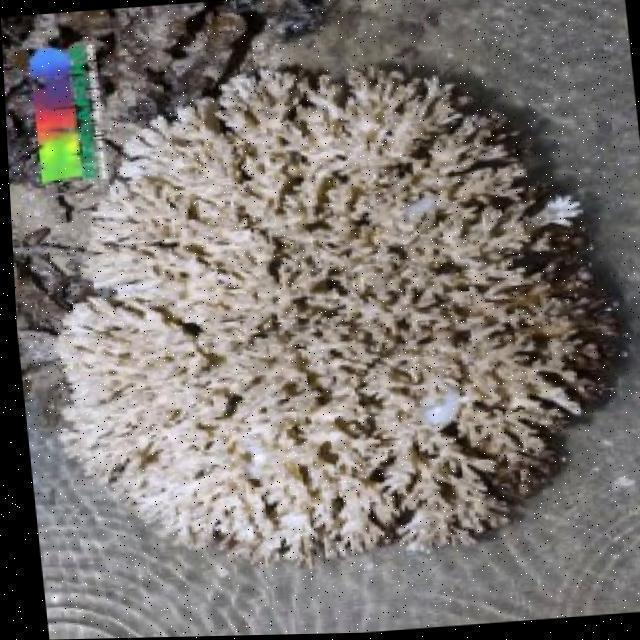Bleached Coral: (2, 47, 640, 599)
